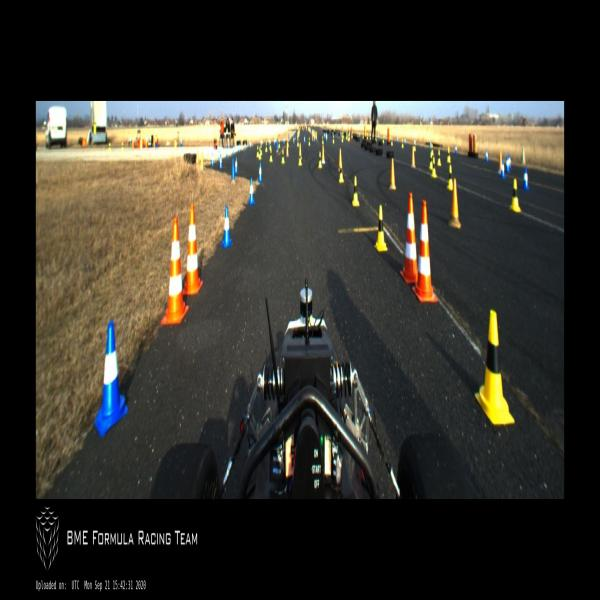blue_cone: (94, 321, 128, 438), (221, 206, 233, 248), (248, 177, 255, 205), (522, 166, 530, 189), (500, 159, 506, 179), (258, 162, 263, 182), (505, 155, 509, 174), (235, 157, 238, 173), (219, 154, 222, 170), (211, 152, 214, 166), (508, 156, 511, 170), (217, 149, 220, 162), (232, 144, 235, 156), (486, 150, 488, 163), (226, 146, 228, 159), (455, 144, 457, 155), (238, 143, 240, 153), (244, 141, 246, 150), (250, 139, 251, 148)
large_orange_cone: (161, 218, 189, 324), (412, 200, 438, 304), (182, 205, 203, 295), (400, 192, 418, 285)
unknown_cone: (448, 178, 461, 229), (389, 158, 396, 189), (410, 146, 416, 168), (338, 149, 343, 173), (321, 144, 326, 164), (521, 146, 526, 165), (231, 157, 235, 180), (498, 151, 502, 174), (200, 150, 204, 169), (196, 149, 199, 165), (286, 142, 289, 158), (299, 143, 302, 159), (276, 138, 278, 153)
yellow_cone: (474, 309, 516, 424), (374, 205, 388, 251), (509, 178, 521, 211), (352, 176, 359, 206), (447, 164, 453, 190), (431, 158, 437, 178), (339, 162, 344, 183), (429, 152, 433, 170), (318, 151, 322, 168), (437, 150, 441, 166), (281, 149, 285, 164), (298, 151, 302, 166), (258, 146, 262, 160), (269, 150, 273, 162), (447, 146, 450, 162), (430, 143, 433, 156), (256, 145, 259, 158), (401, 138, 404, 148), (269, 141, 272, 150), (308, 137, 311, 146), (260, 145, 262, 155), (265, 142, 267, 152), (391, 137, 393, 146), (414, 143, 416, 151), (278, 140, 280, 148), (297, 138, 299, 146), (322, 136, 324, 144), (332, 136, 334, 144)
